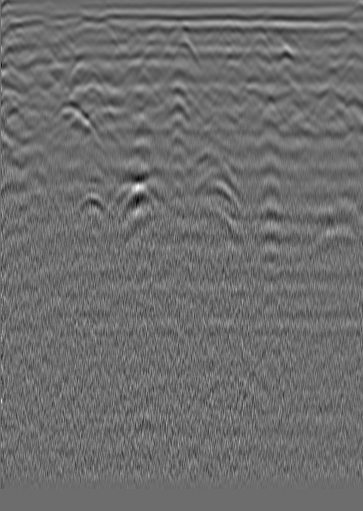가스: (103, 179, 156, 223)
상수: (308, 24, 328, 44)
오수: (31, 19, 51, 39)
우수: (177, 25, 197, 45)
